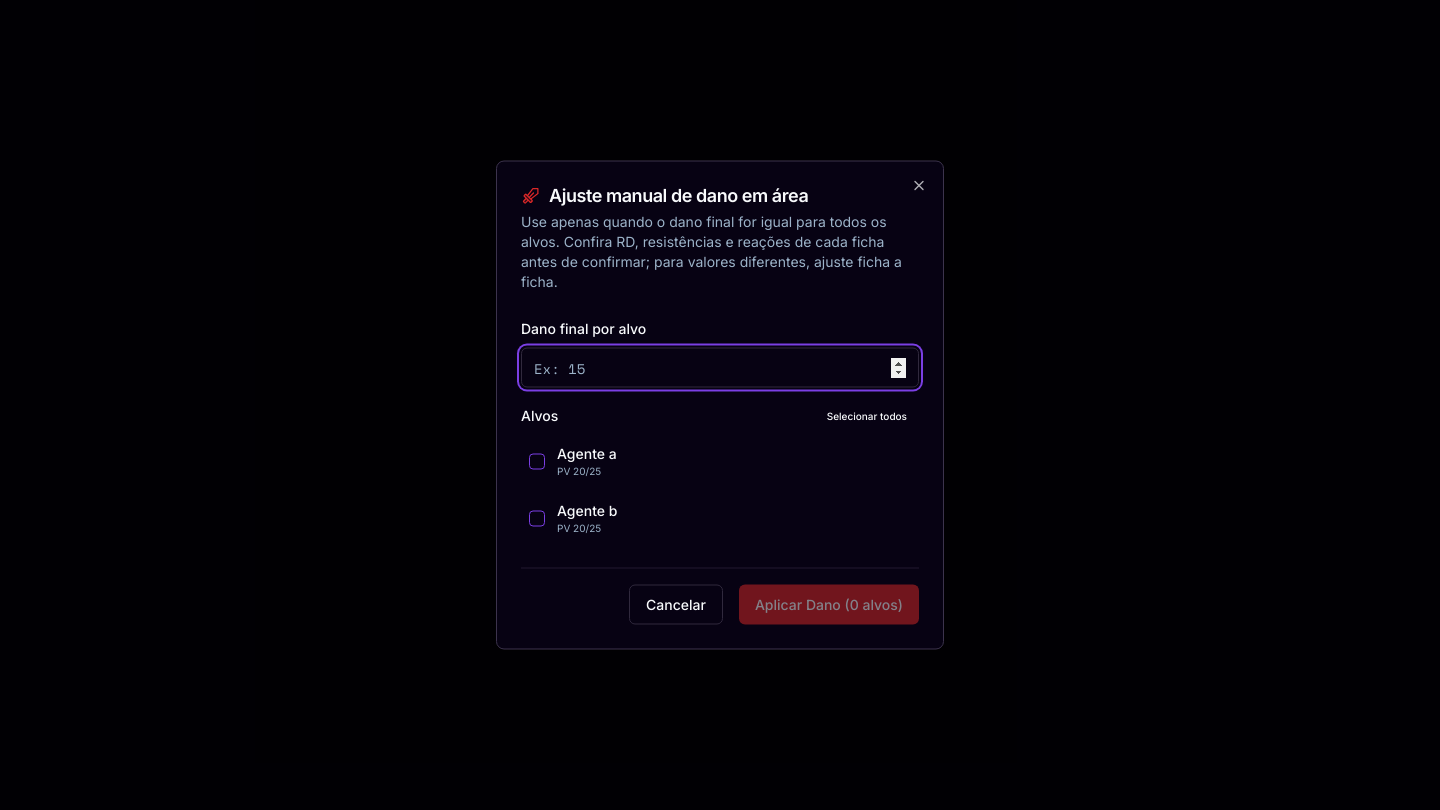
Test: Confirmação do ajuste manual de dano em área › mantém somente o alvo sem confirmação para retry e fecha após confirmação final
Later steps or results of the test are not shown.
Click the checkbox named "Agente a" next to "Agente a" at (537, 461), box [529, 453, 545, 469]
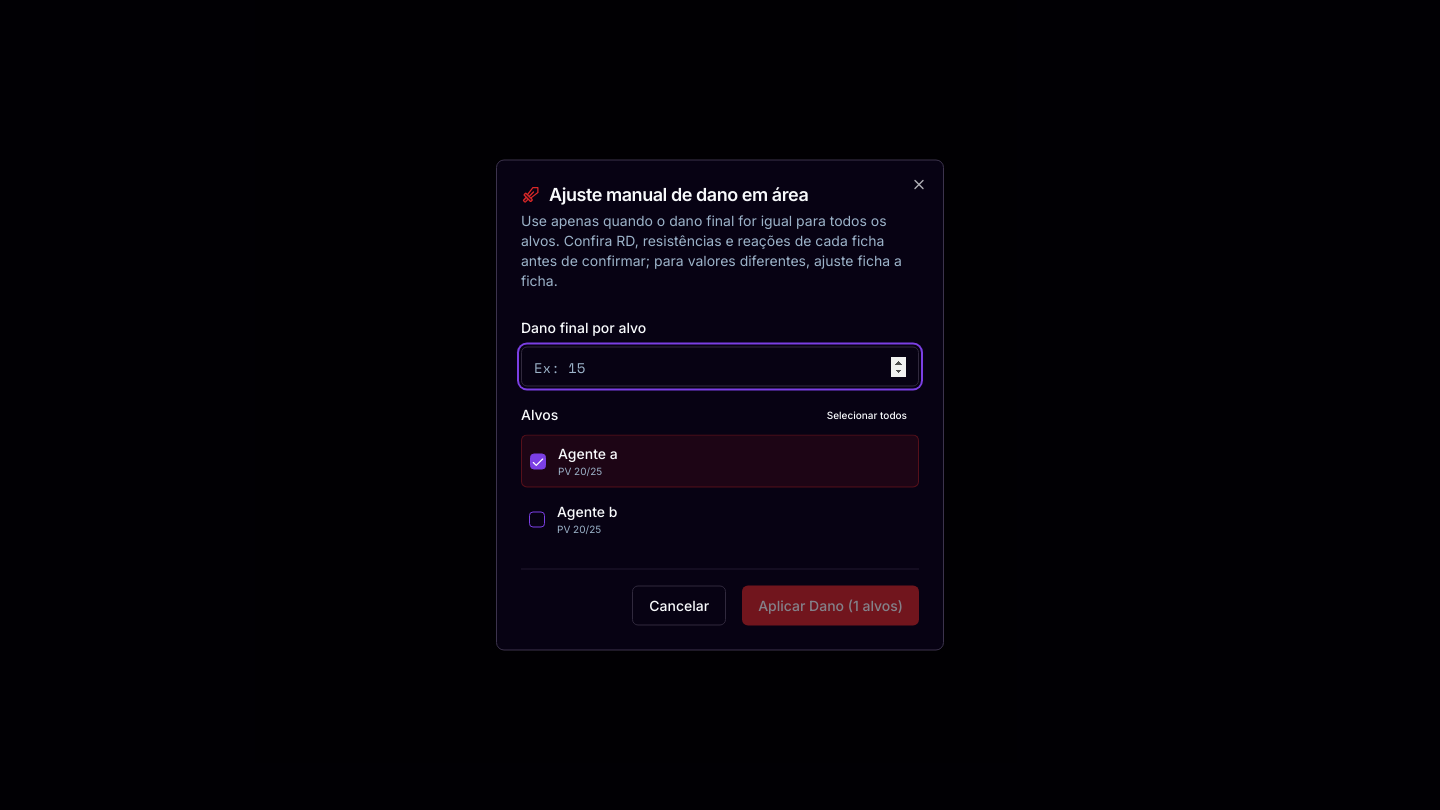
Click the checkbox named "Agente b" next to "Agente b" at (537, 519), box [529, 511, 545, 527]
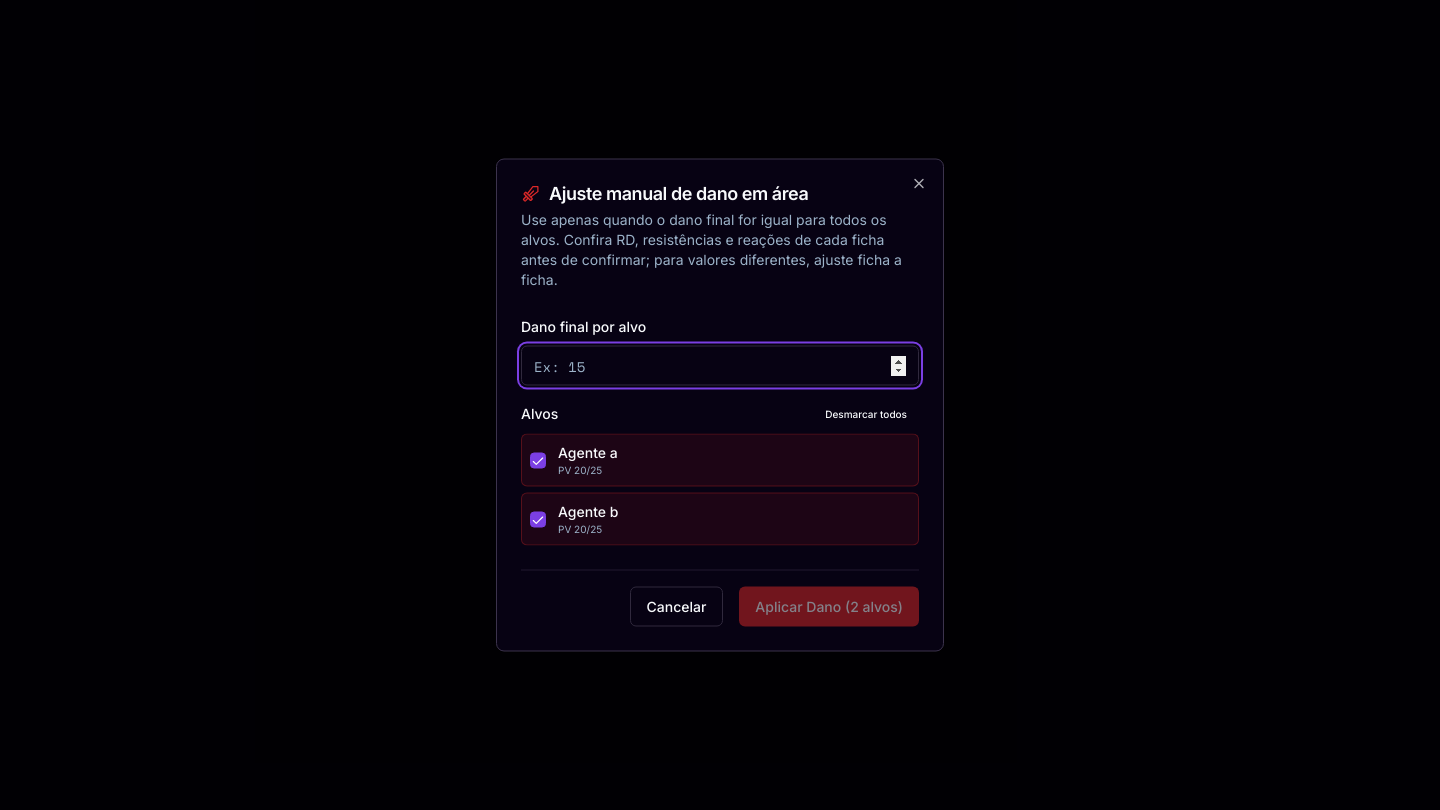
Type "7" into the number field labelled "Dano final por alvo" at (720, 366), box [521, 346, 919, 386]
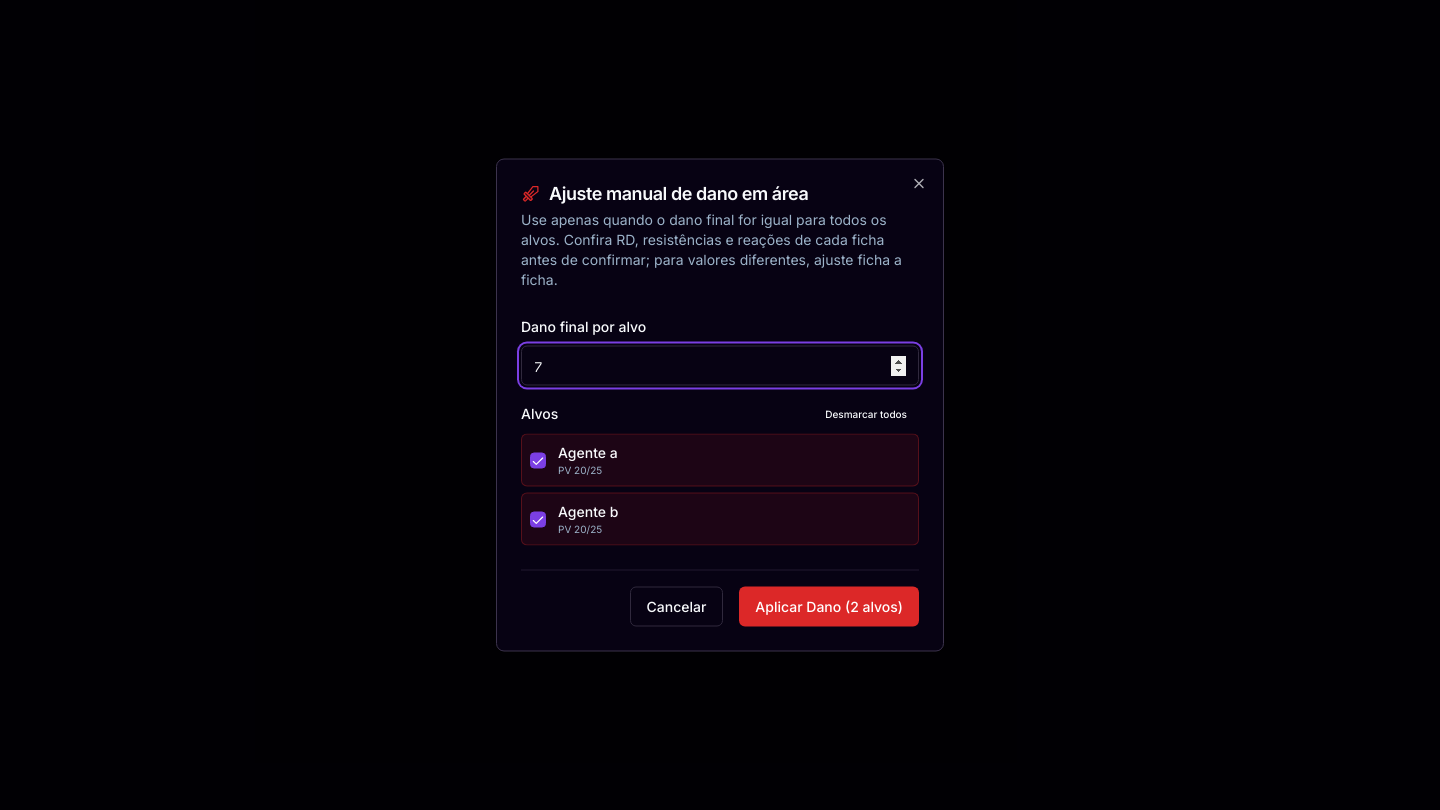
Click the button "Aplicar Dano (2 alvos)" at (829, 606), box [739, 586, 919, 626]
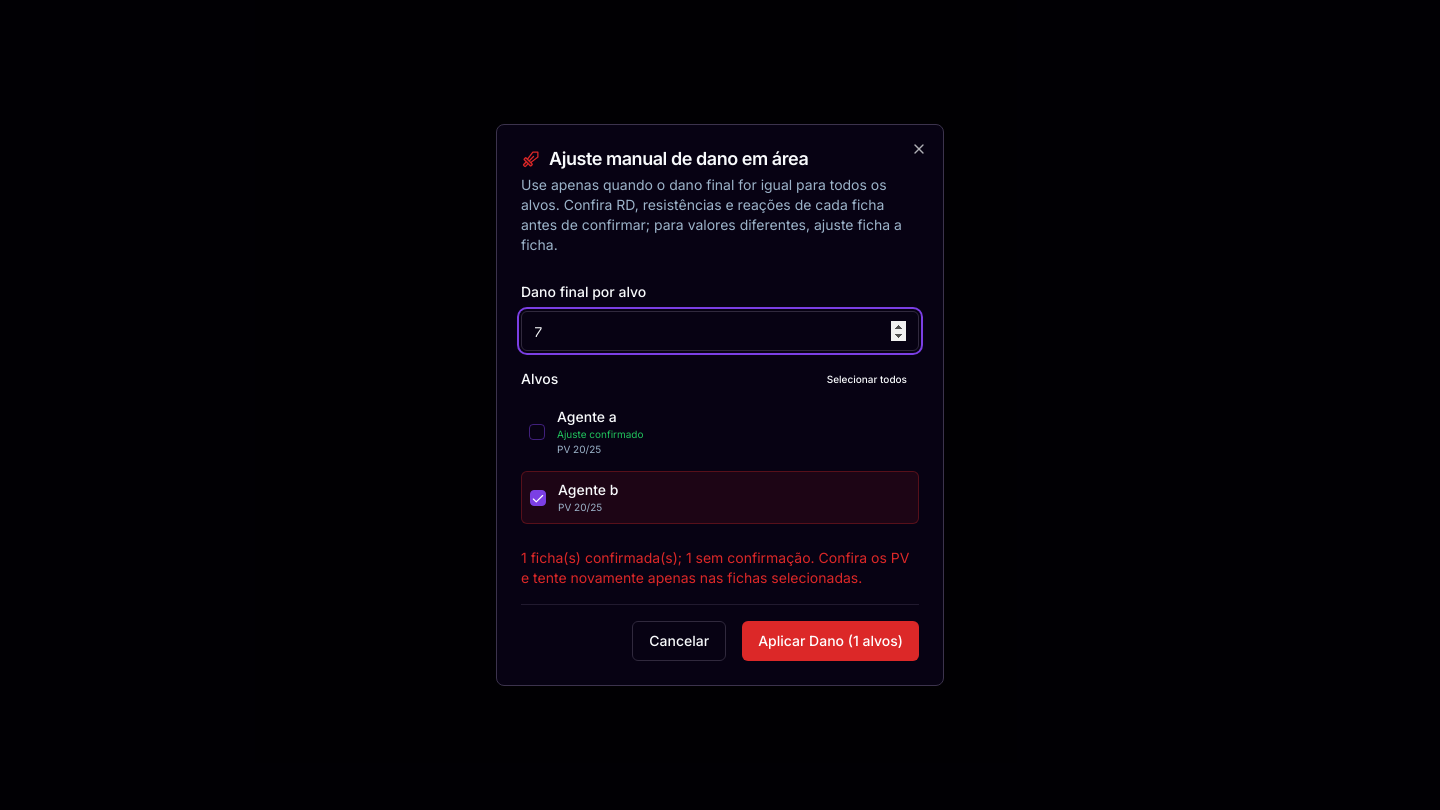
Check: the checkbox named "Agente b" next to "Agente b" is checked, box [530, 490, 546, 506]
Check: the message shows "1 ficha(s) confirmada(s); 1 sem confirmação", box [521, 549, 909, 586]
Check: the checkbox named "Agente a" next to "Ajuste confirmado" is disabled, box [529, 424, 545, 440]
